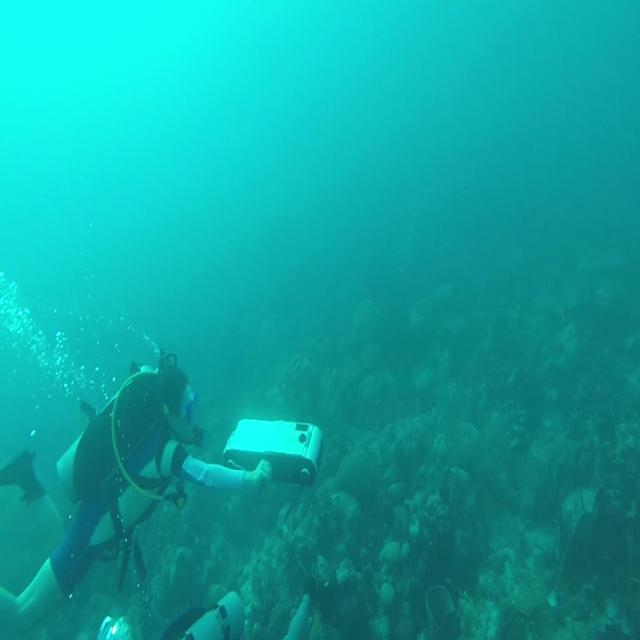human: (1, 347, 272, 636)
